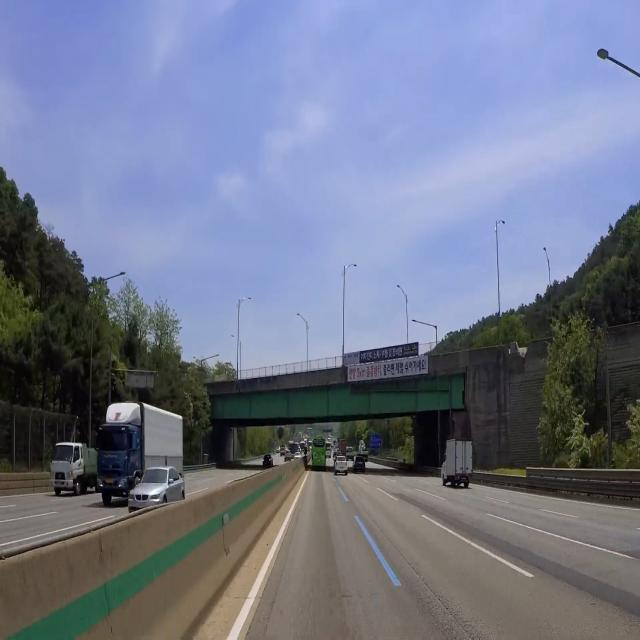car: (132, 500, 151, 512), (101, 477, 118, 490)
